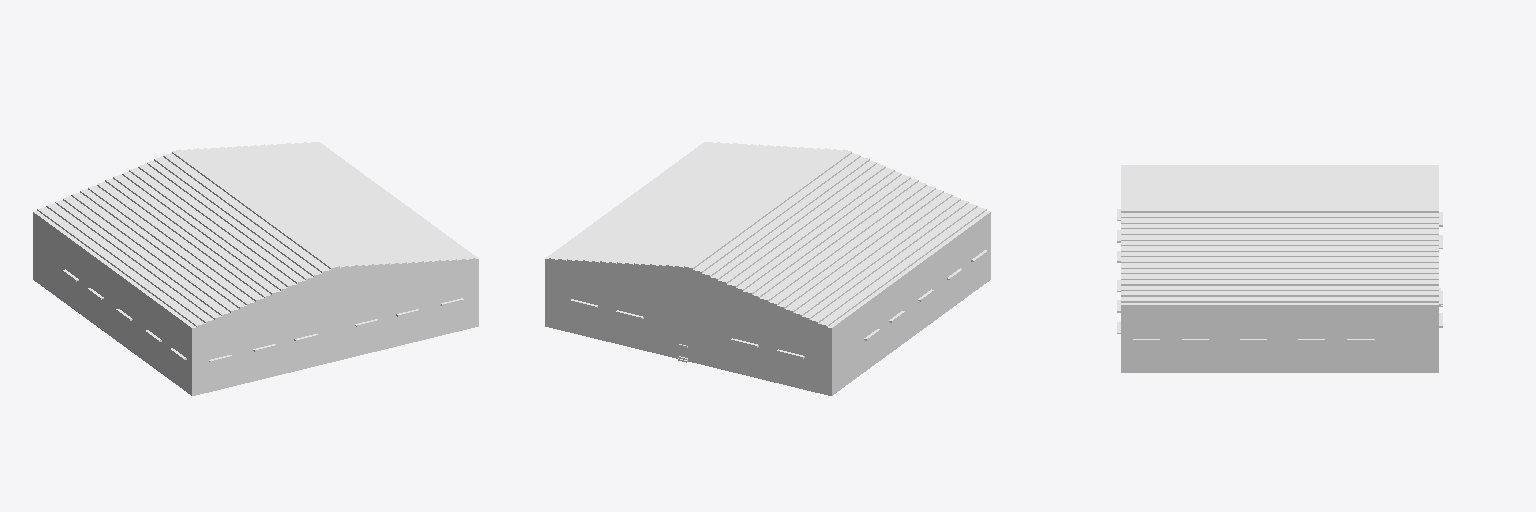
Rendered from stock.obj.
3 renders of one model, left to right at view 1: azimuth 30°, elevation 25°; view 2: azimuth 150°, elevation 25°; view 3: azimuth 270°, elevation 25°, orthographic.
Visible parts, largest first — view 1: object 1; view 2: object 1; view 3: object 1.
Part boxes in pixels (x1,y1,x2,y2): object 1: (33,142,478,395); object 1: (545,142,990,395); object 1: (1117,165,1442,372).
Bounding box in the file's own units: 19.8 × 6.1 × 19.1.